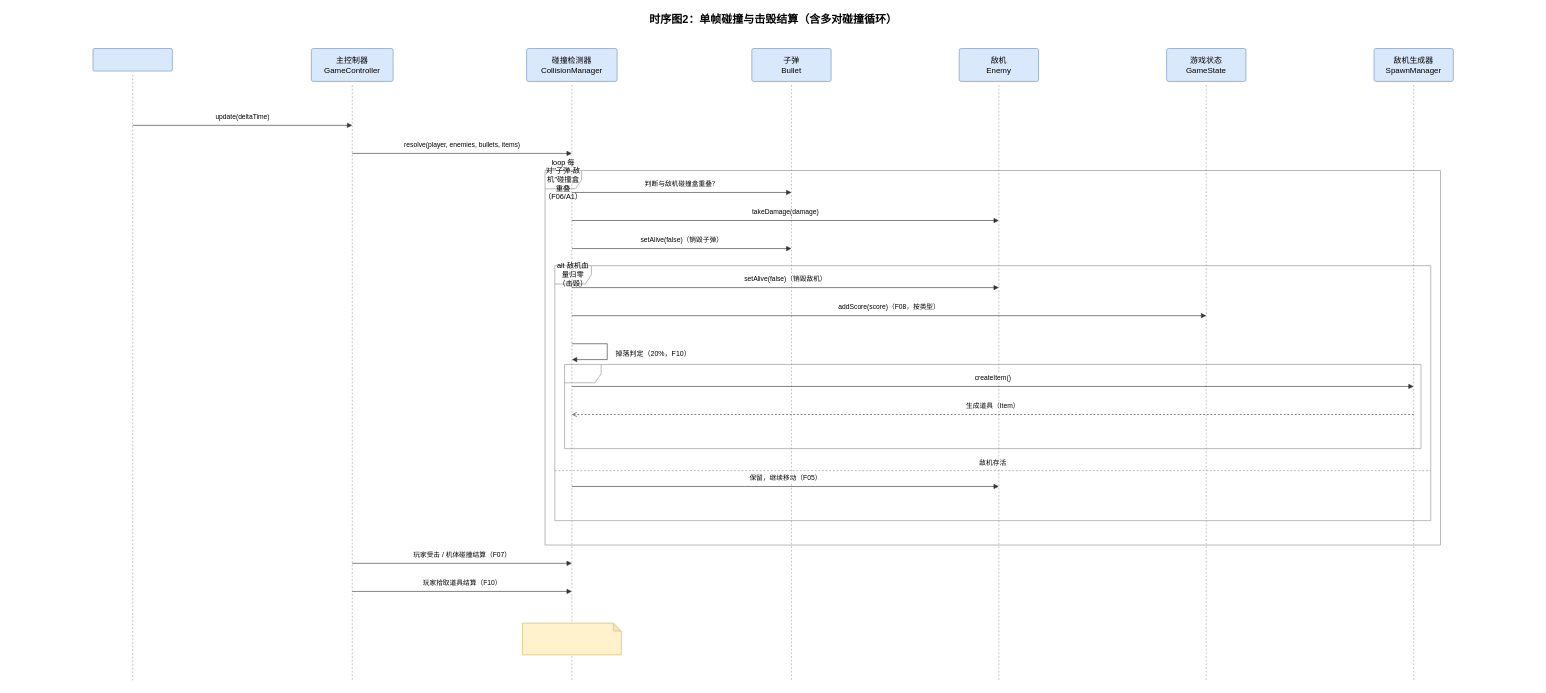
Some shapes in this 1546 by 693 pixel diagram are drawn without their labels. The shapes that lost their labels are listed below. From the top down, each one's centre as x and y in pixels, then its label:
the point at 132,59: 系统定时器
the point at 992,406: alt 判定命中
the point at 571,639: 一帧内多对碰撞全部结算， 不遗漏（GWT-10）。
